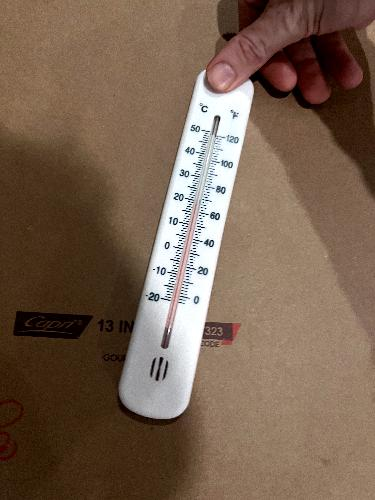thermo: (112, 61, 268, 424)
